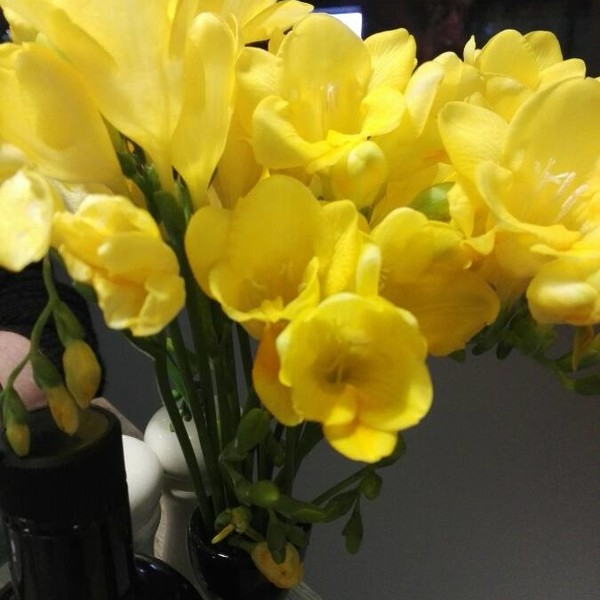obstacle: (34, 6, 483, 533)
